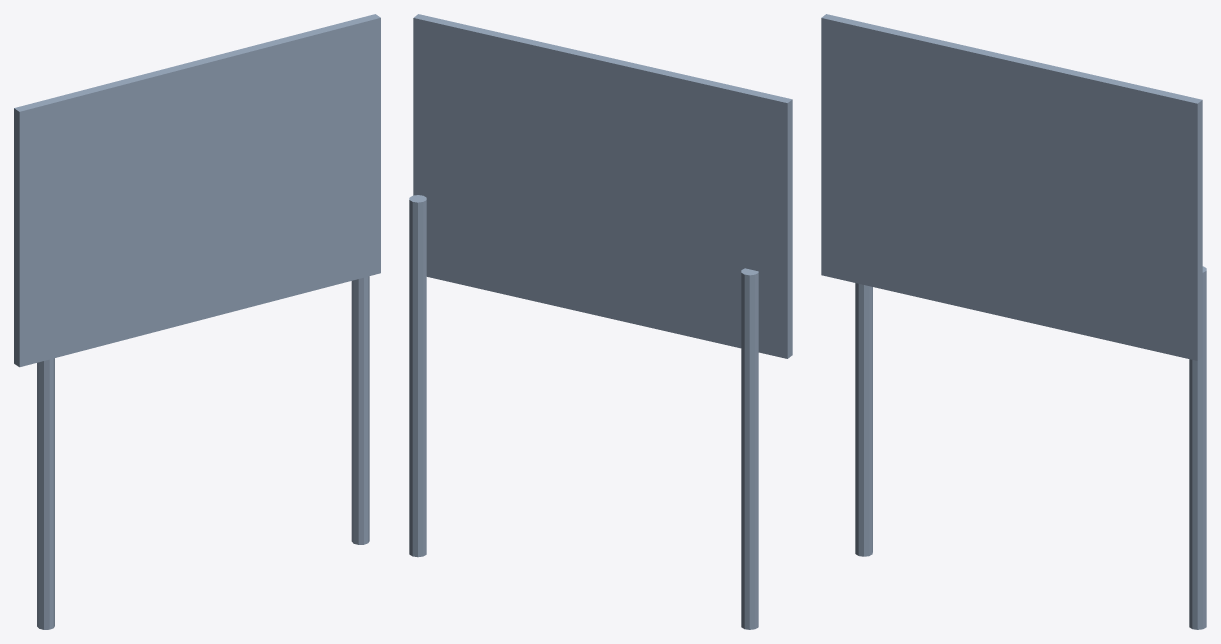
The model's file is billboard_sign.fbx.
3 renders of one model, left to right at view 1: azimuth 30°, elevation 25°; view 2: azimuth 150°, elevation 25°; view 3: azimuth 330°, elevation 25°, orthographic.
Visible parts, largest first — view 1: billboard3; view 2: billboard3; view 3: billboard3.
Boxes of the visible parts, x1,y1,x2,y2 form: billboard3: [14, 14, 380, 629]; billboard3: [409, 14, 792, 629]; billboard3: [821, 14, 1206, 629].
Bounding box in the file's own units: 3.03 × 4.17 × 0.2987.
